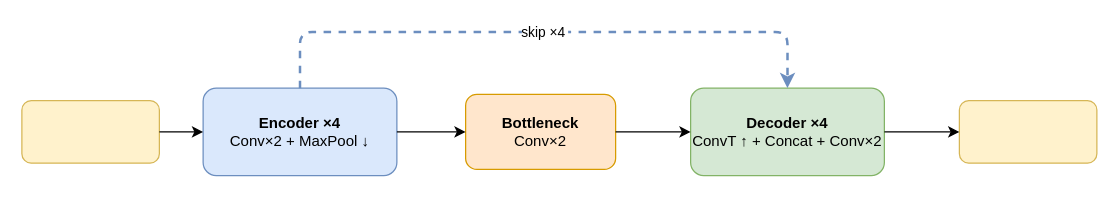
Some shapes in this 1119 by 198 pixel diagram are drawn without their labels. The shapes that lost their labels are listed below. From the top down, each one's centre as x and y in pixels, then its label:
At point (90, 131): "Input 1 ch | 256×256".
At point (1027, 131): "Output Conv 1×1".
